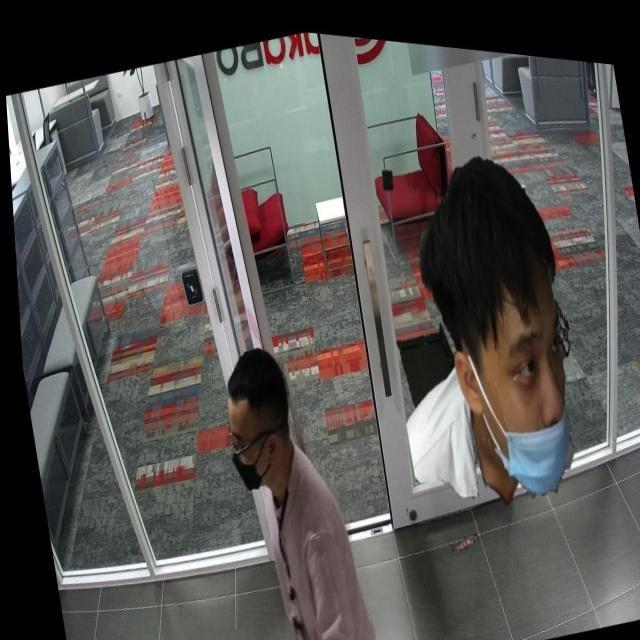hairnet: (470, 286, 580, 497)
